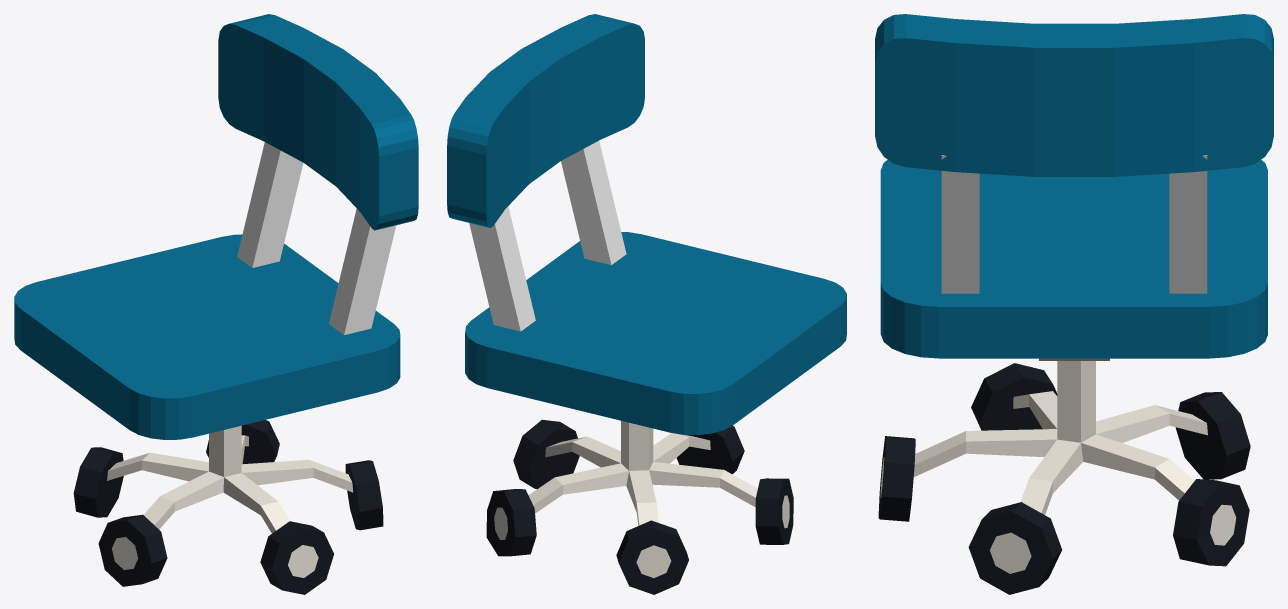
Rendered from G01_001_Chair_Blue.fbx.
The picture shows the model from 3 angles, left to right: view 1: azimuth 30°, elevation 25°; view 2: azimuth 150°, elevation 25°; view 3: azimuth 270°, elevation 25°; orthographic projection. The views are drawn at different scales.
Visible parts, largest first — view 1: 002_Floor_Square_B.001, 立方体, 柱体.028, 柱体.031, 001_Floor_Square_W.003, 001_Floor_Square_W.002; view 2: 002_Floor_Square_B.001, 立方体, 柱体.028, 柱体.031, 001_Floor_Square_W.002, 001_Floor_Square_W.003; view 3: 002_Floor_Square_B.001, 立方体, 柱体.028, 柱体.031, 001_Floor_Square_W.002, 001_Floor_Square_W.003.
Part boxes in pixels (left/top/right/bottom): 002_Floor_Square_B.001: left=14, top=234, right=400, bottom=439; 立方体: left=218, top=14, right=418, bottom=230; 柱体.028: left=73, top=420, right=383, bottom=594; 柱体.031: left=107, top=425, right=353, bottom=533; 001_Floor_Square_W.003: left=237, top=142, right=303, bottom=267; 001_Floor_Square_W.002: left=329, top=208, right=396, bottom=334; 002_Floor_Square_B.001: left=465, top=232, right=846, bottom=435; 立方体: left=447, top=14, right=644, bottom=227; 柱体.028: left=486, top=419, right=793, bottom=594; 柱体.031: left=528, top=420, right=757, bottom=525; 001_Floor_Square_W.002: left=561, top=140, right=626, bottom=265; 001_Floor_Square_W.003: left=469, top=206, right=535, bottom=331; 002_Floor_Square_B.001: left=880, top=159, right=1267, bottom=358; 立方体: left=875, top=14, right=1273, bottom=176; 柱体.028: left=878, top=363, right=1250, bottom=594; 柱体.031: left=913, top=361, right=1207, bottom=514; 001_Floor_Square_W.002: left=941, top=155, right=979, bottom=293; 001_Floor_Square_W.003: left=1169, top=155, right=1207, bottom=293.
Bounding box in the file's own units: 135 × 201 × 131.
